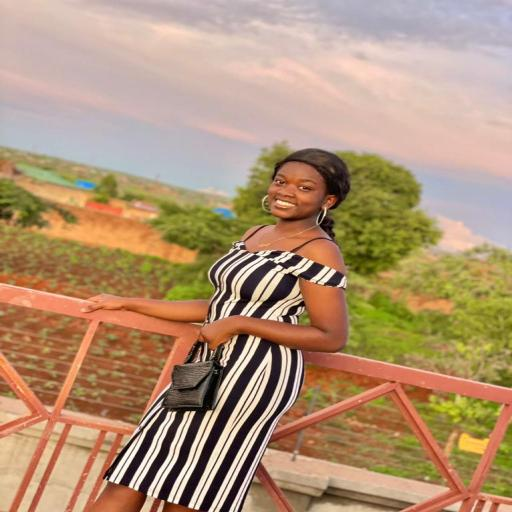LAURENE: (258, 140, 343, 231)
